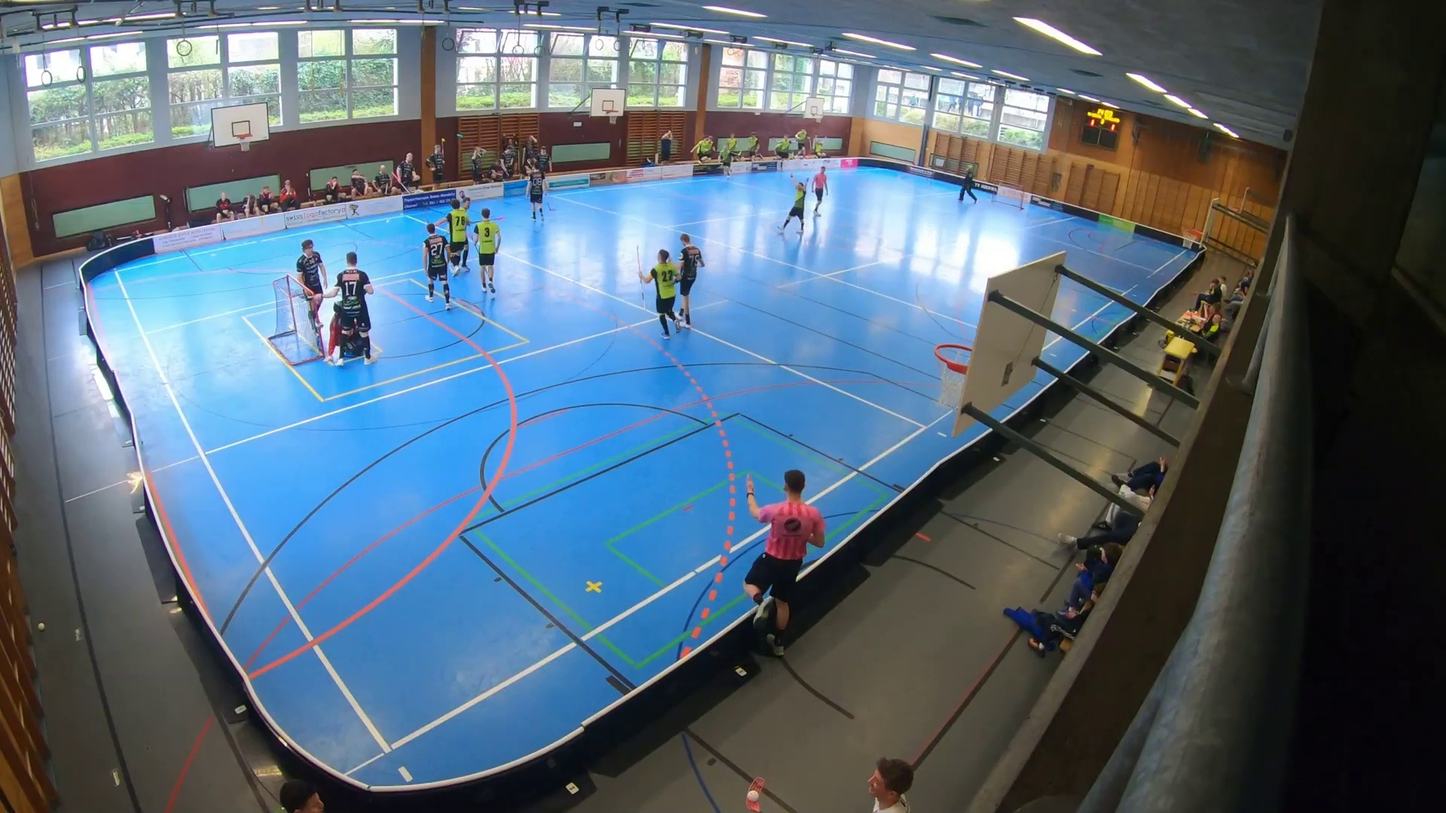Schiri: (708, 442, 839, 669), (806, 160, 840, 221)
goalkeeper: (319, 302, 350, 361), (955, 159, 984, 211)
player: (314, 246, 388, 371), (621, 228, 684, 346), (680, 220, 725, 337), (406, 214, 456, 313), (279, 235, 326, 326), (474, 203, 508, 305), (777, 171, 815, 249), (439, 194, 469, 273), (525, 158, 554, 227), (710, 142, 734, 179), (459, 188, 473, 218)
